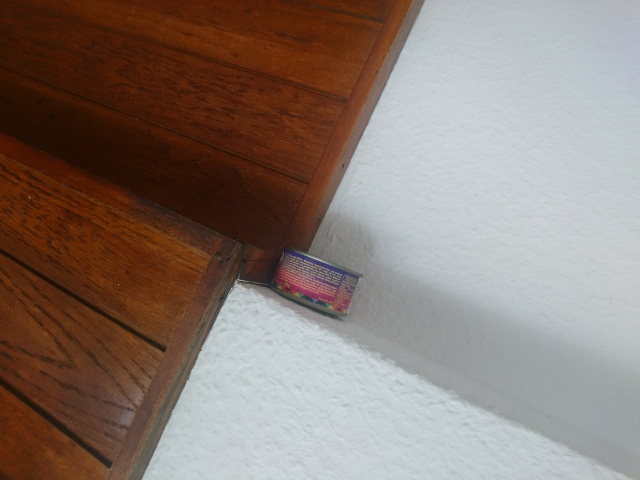Giana Tuna Salad Mexico 185g: (266, 244, 366, 319)
